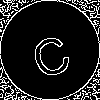C: (25, 25, 74, 80)
